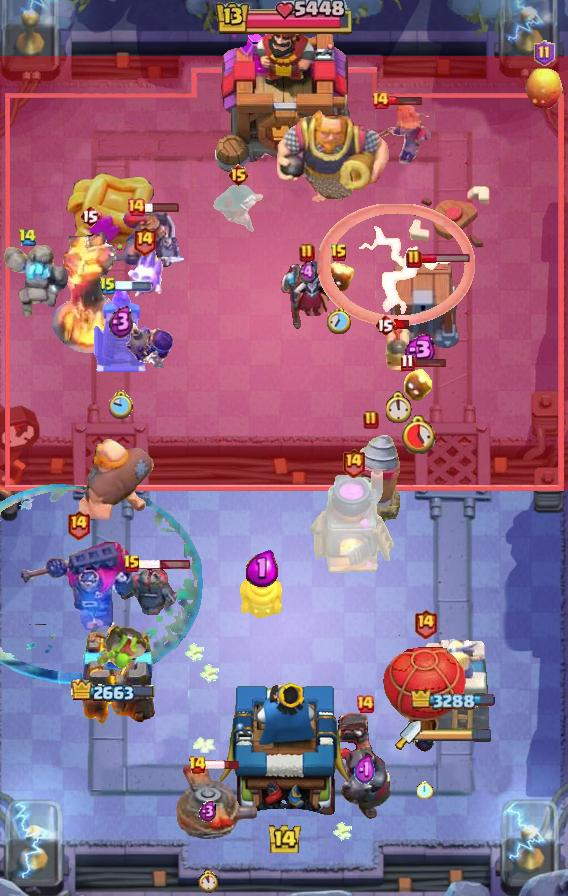balloon: (76, 438, 156, 526)
bar: (416, 637, 490, 731)
bar-level: (95, 624, 149, 672)
barbarian-evolution: (317, 204, 475, 326)
battle-ram: (116, 568, 178, 616)
bomb: (384, 264, 462, 350)
bomber: (401, 366, 435, 404), (324, 261, 354, 293)
cannon-cart: (382, 634, 468, 752)
clock: (213, 0, 355, 38)
dark-prince: (149, 762, 267, 848)
electro-dragon: (51, 229, 129, 357)
electro-spirit: (246, 550, 278, 587), (399, 335, 436, 365), (110, 306, 135, 338), (354, 754, 376, 786), (299, 259, 315, 284), (199, 800, 217, 822)
elixir: (399, 414, 437, 454), (386, 391, 413, 423), (110, 390, 135, 419), (327, 308, 351, 334), (197, 870, 219, 894), (417, 781, 433, 799)
elixir-golem-big: (107, 212, 189, 270)
emote: (139, 558, 191, 569), (420, 252, 471, 263), (203, 759, 241, 771), (144, 201, 180, 213), (389, 94, 424, 106), (412, 357, 447, 368), (114, 281, 152, 291), (394, 318, 411, 329)
executioner: (383, 321, 415, 375)
giant-skeleton: (275, 105, 391, 205)
goblin-ball: (123, 323, 175, 379)
goblin-drill: (239, 568, 285, 620)
hog: (524, 67, 564, 111)
hunter: (308, 469, 398, 577)
ice-spirit-evolution-symbol: (91, 282, 151, 374)
inferno-tower: (18, 538, 138, 630)
king-tower: (211, 7, 357, 181), (219, 678, 349, 826)
king-tower-bar: (421, 728, 493, 742)
magic-archer: (341, 433, 401, 527)
mirror: (124, 249, 164, 299)
pad_0: (0, 482, 204, 684)
queen-tower: (72, 619, 156, 731)
rascal-boy: (279, 258, 335, 334)
royal-guardian: (333, 710, 397, 822)
selected: (71, 679, 157, 705), (411, 690, 495, 712)
tesla: (210, 185, 266, 233)
tesla-evolution: (351, 103, 431, 170)
text: (131, 224, 156, 255), (66, 508, 91, 539), (341, 447, 366, 477), (414, 609, 438, 640), (226, 163, 249, 187), (534, 40, 555, 66), (79, 204, 101, 228), (374, 313, 396, 337), (370, 90, 390, 110), (126, 197, 146, 217), (355, 694, 375, 714), (189, 755, 208, 775), (330, 243, 348, 263), (99, 276, 117, 296), (123, 554, 141, 574), (19, 229, 38, 247), (299, 243, 315, 263), (406, 249, 422, 269), (363, 410, 379, 430), (401, 353, 415, 371)
valkyrie-evolution: (0, 242, 74, 324)
